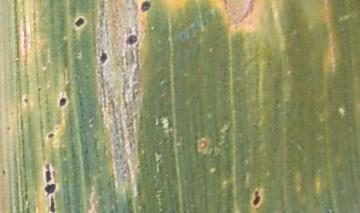tarspot: (43, 163, 53, 182), (125, 34, 139, 46), (140, 1, 153, 13), (74, 16, 85, 28), (44, 182, 56, 193), (100, 51, 108, 66), (49, 194, 55, 213), (254, 190, 260, 207), (58, 97, 68, 107), (47, 131, 55, 138), (36, 85, 42, 92), (22, 97, 29, 103), (1, 169, 7, 176), (6, 125, 12, 131)
